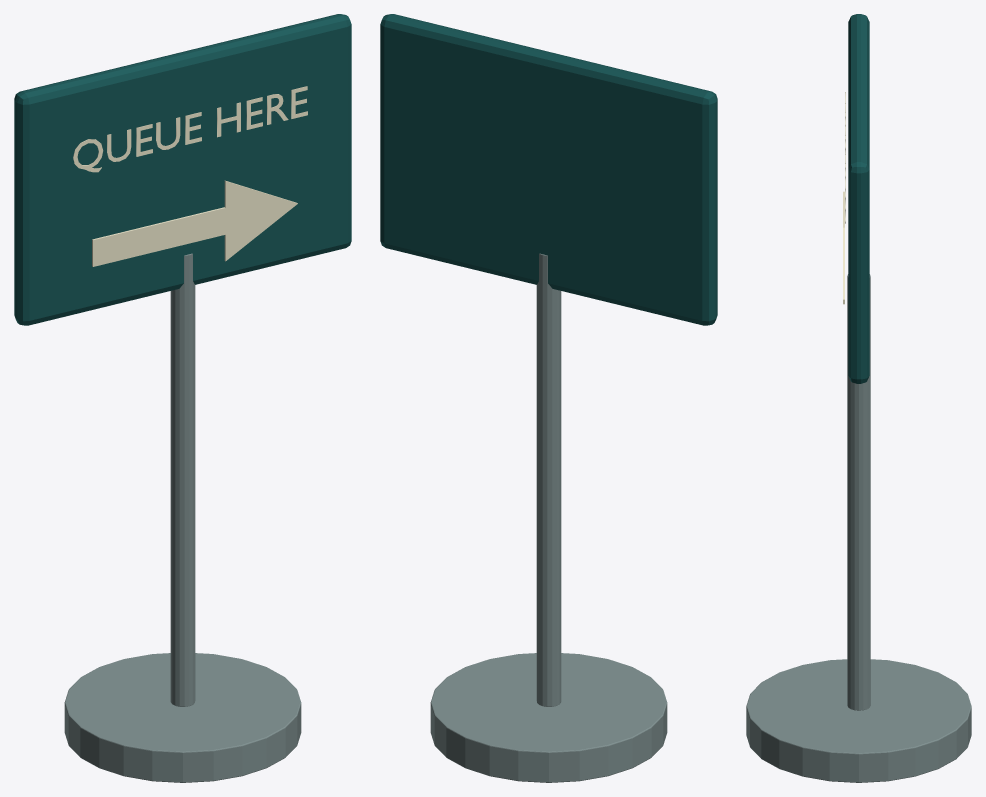
3 views of the same model, side by side, from view 1: azimuth 30°, elevation 25°; view 2: azimuth 150°, elevation 25°; view 3: azimuth 270°, elevation 25° (orthographic). The views are drawn at different scales.
Parts seen in each view (by area): view 1: SIGN_Panel, BASE_Weighted, STAND_Post, ICON_QueueArrow, EDITABLE_QueueText_Export; view 2: SIGN_Panel, BASE_Weighted, STAND_Post; view 3: BASE_Weighted, STAND_Post, SIGN_Panel.
Part boxes in pixels (<box>): SIGN_Panel: <box>14,14,351,325</box>; BASE_Weighted: <box>64,653,301,782</box>; STAND_Post: <box>170,253,195,706</box>; ICON_QueueArrow: <box>92,180,297,266</box>; EDITABLE_QueueText_Export: <box>73,86,307,172</box>; SIGN_Panel: <box>380,14,717,325</box>; BASE_Weighted: <box>430,653,667,782</box>; STAND_Post: <box>536,253,561,706</box>; BASE_Weighted: <box>746,659,971,782</box>; STAND_Post: <box>847,274,870,710</box>; SIGN_Panel: <box>848,14,869,383</box>.
Size of the model in its own units: 0.78 by 1.52 by 0.48.
